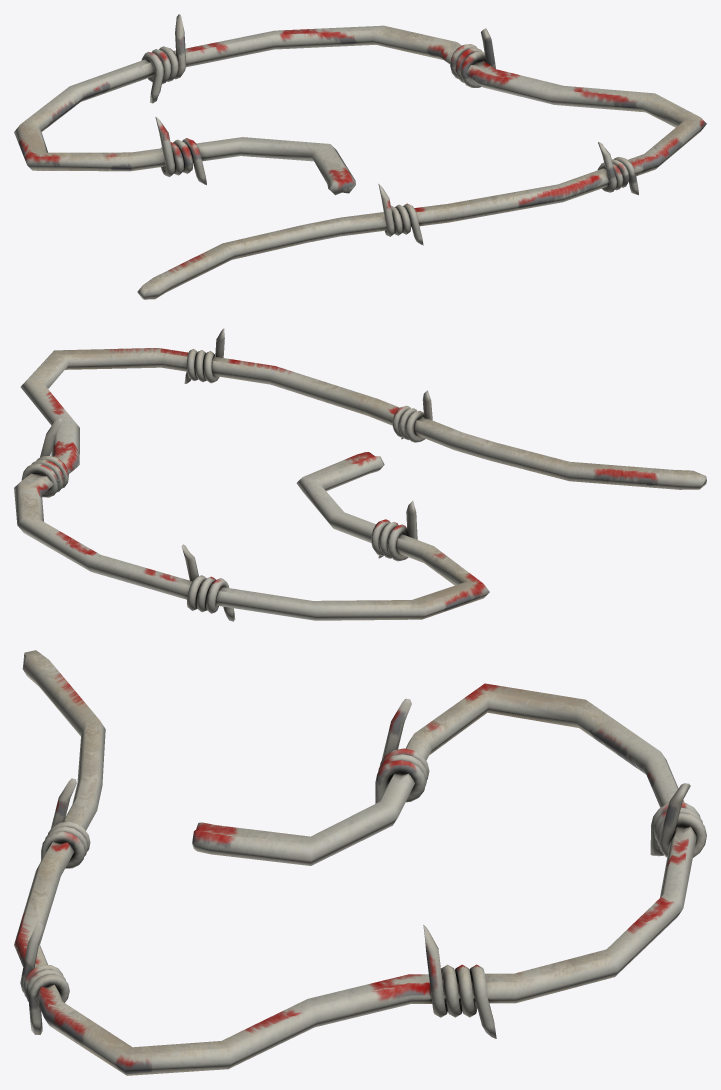
Rendered from Wire.fbx.
3 renders of one model, top to bottom at view 1: azimuth 30°, elevation 25°; view 2: azimuth 150°, elevation 25°; view 3: azimuth 270°, elevation 25°, orthographic. The views are drawn at different scales.
Parts seen in each view (by area): view 1: Cylinder, Circle; view 2: Cylinder, Circle; view 3: Cylinder, Circle.
Boxes of the visible parts, x1=… form: Cylinder: x1=14, y1=25, x2=706, y2=299; Circle: x1=141, y1=14, x2=638, y2=245; Cylinder: x1=14, y1=348, x2=706, y2=620; Circle: x1=21, y1=328, x2=432, y2=621; Cylinder: x1=14, y1=650, x2=696, y2=1075; Circle: x1=20, y1=698, x2=706, y2=1038.
Size of the model in its own units: 408 by 49 by 290.
